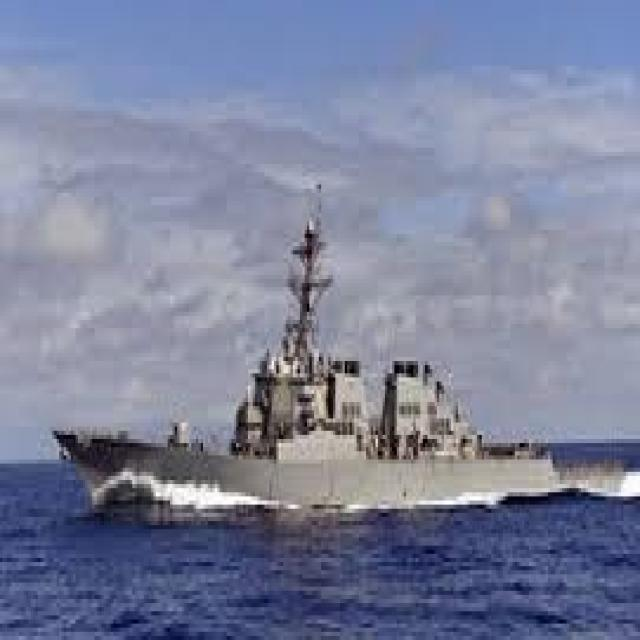navalvessels: (54, 156, 620, 528)
